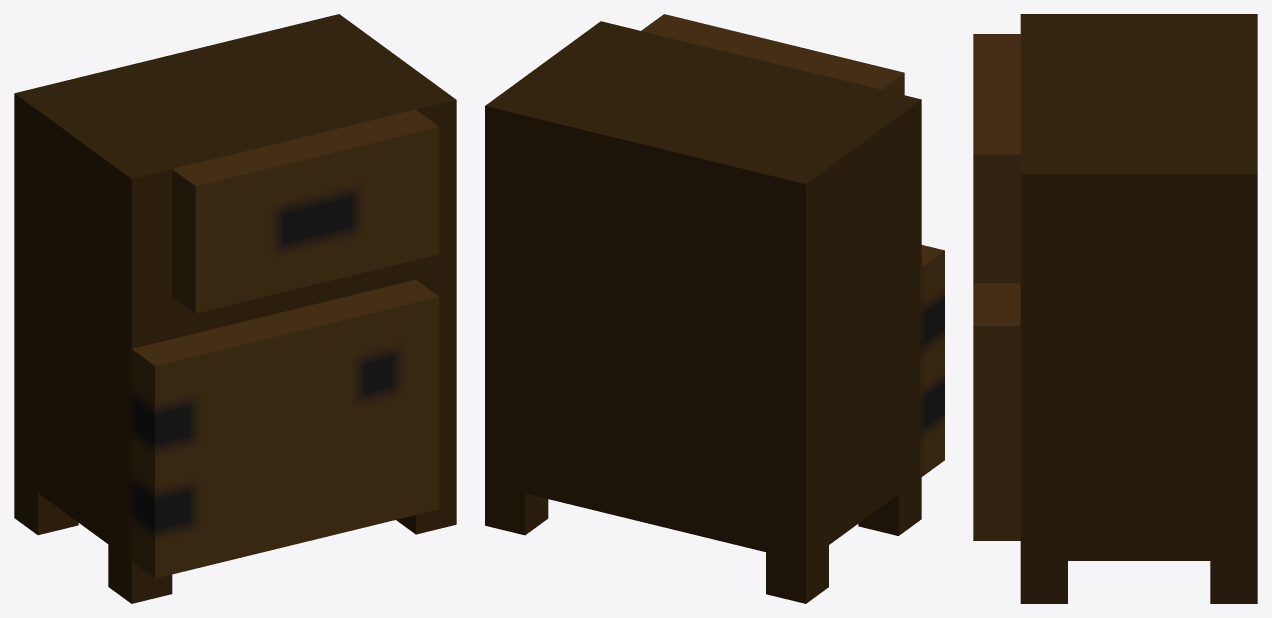
Rendered from cupboard2.obj.
The picture shows the model from 3 angles, left to right: view 1: azimuth 30°, elevation 25°; view 2: azimuth 150°, elevation 25°; view 3: azimuth 270°, elevation 25°; orthographic projection. The views are drawn at different scales.
Parts seen in each view (by area): view 1: cupboard2; view 2: cupboard2; view 3: cupboard2.
Boxes of the visible parts, x1=… form: cupboard2: x1=14, y1=14, x2=456, y2=603; cupboard2: x1=485, y1=14, x2=944, y2=603; cupboard2: x1=973, y1=14, x2=1257, y2=603.
Bounding box in the file's own units: 8 × 10 × 6.
